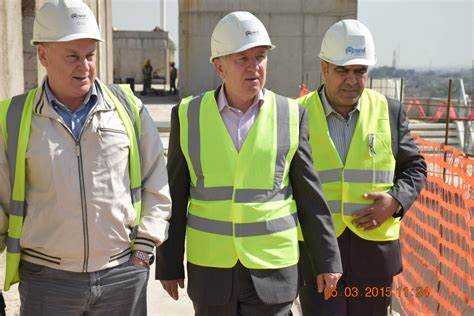Helmet: (24, 1, 112, 105), (204, 6, 286, 101), (311, 13, 385, 118)
Reflective vest: (1, 75, 148, 294), (174, 86, 303, 271), (295, 85, 405, 245)
